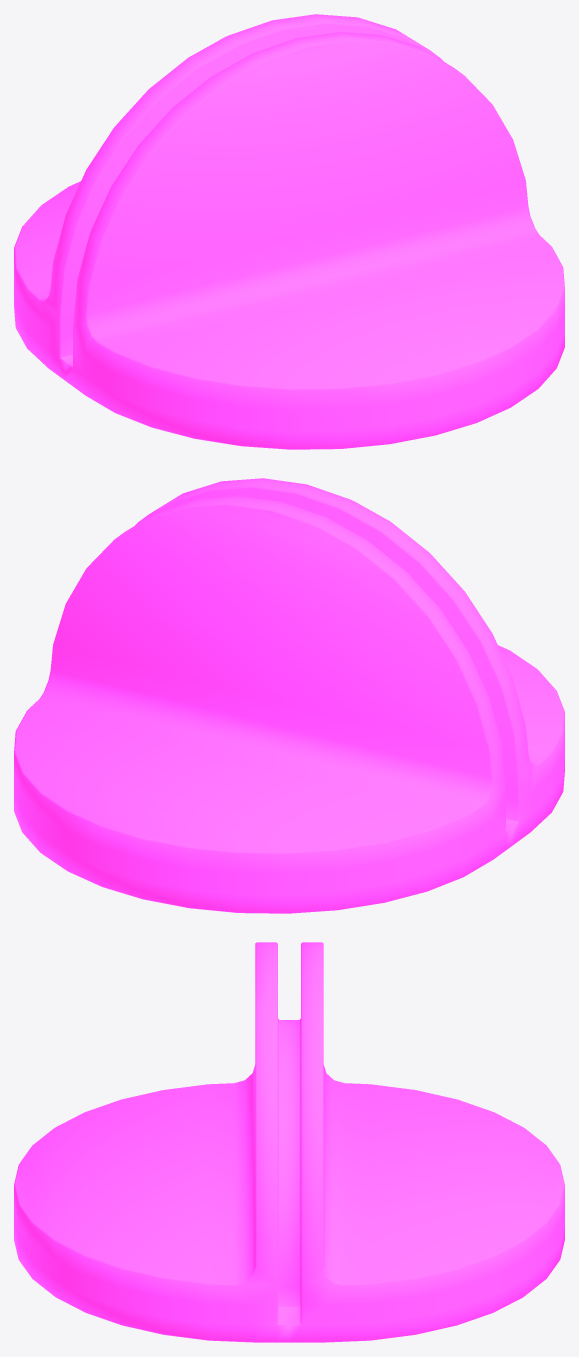
Rendered from cardholder-neon.glb.
3 views of the same model, one above another, from view 1: azimuth 30°, elevation 25°; view 2: azimuth 150°, elevation 25°; view 3: azimuth 270°, elevation 25° (orthographic). The views are drawn at different scales.
Visible parts, largest first — view 1: Cardholder; view 2: Cardholder; view 3: Cardholder.
Boxes of the visible parts, <box> form: Cardholder: <box>14,14,564,449</box>; Cardholder: <box>14,478,564,913</box>; Cardholder: <box>14,942,564,1342</box>.
Size of the model in its own units: 2 by 1.26 by 2.28.
1 material, 1 textured.
